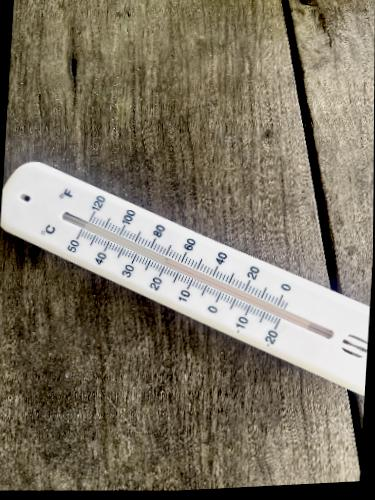thermo: (0, 148, 375, 400)
